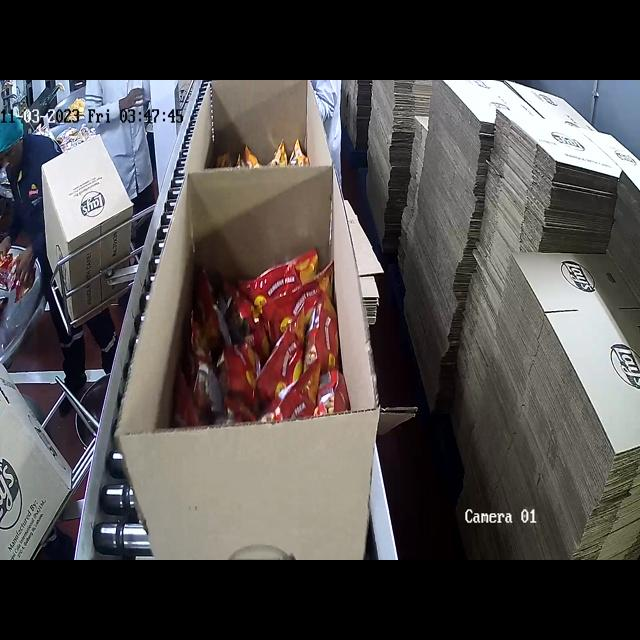cheese: (207, 113, 320, 168)
masala: (172, 248, 358, 429)
